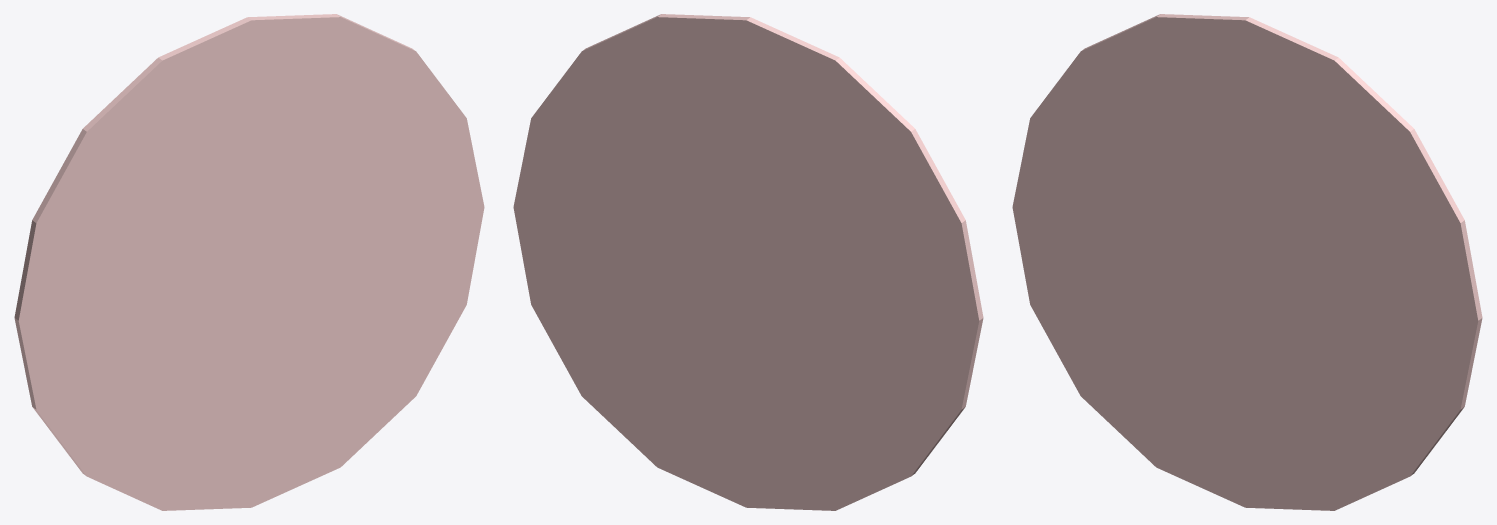
File: colorful_rainbow.glb
The picture shows the model from 3 angles, left to right: view 1: azimuth 30°, elevation 25°; view 2: azimuth 150°, elevation 25°; view 3: azimuth 330°, elevation 25°; orthographic projection.
Parts seen in each view (by area): view 1: orange_arc, red_arc, green_arc, yellow_arc, blue_arc, violet_arc, indigo_arc; view 2: red_arc, orange_arc, indigo_arc, violet_arc, yellow_arc, blue_arc, green_arc; view 3: red_arc, orange_arc, indigo_arc, violet_arc, yellow_arc, blue_arc, green_arc.
Boxes of the visible parts, x1,y1,x2,y2 form: orange_arc: [23, 21, 480, 506]; red_arc: [14, 14, 484, 510]; green_arc: [30, 29, 454, 499]; yellow_arc: [26, 25, 441, 502]; blue_arc: [39, 34, 457, 449]; violet_arc: [45, 43, 462, 484]; indigo_arc: [50, 42, 428, 487]; red_arc: [513, 14, 983, 510]; orange_arc: [517, 23, 959, 504]; indigo_arc: [534, 38, 955, 490]; violet_arc: [538, 40, 956, 484]; yellow_arc: [527, 28, 967, 501]; blue_arc: [529, 33, 958, 468]; green_arc: [526, 32, 967, 497]; red_arc: [1012, 14, 1482, 510]; orange_arc: [1016, 23, 1458, 504]; indigo_arc: [1033, 38, 1454, 490]; violet_arc: [1037, 40, 1455, 484]; yellow_arc: [1026, 28, 1466, 501]; blue_arc: [1028, 33, 1457, 468]; green_arc: [1025, 32, 1466, 497].
Bounding box in the file's own units: 9.5 × 9.5 × 0.15.
